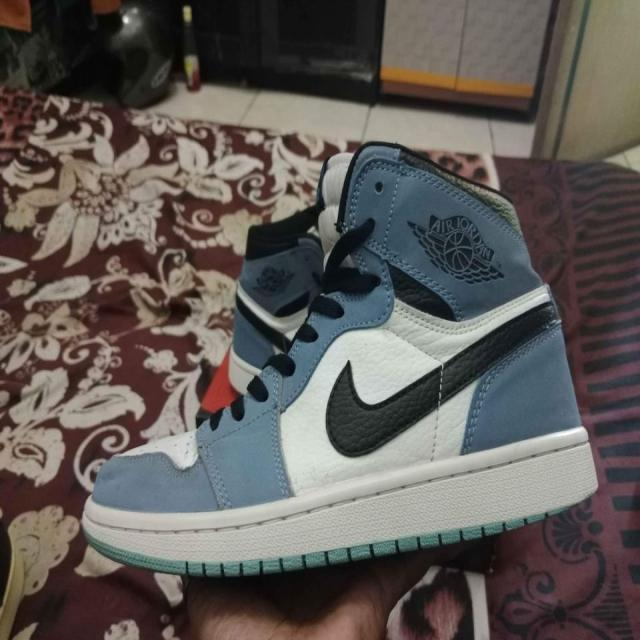nike fake jordan 1: (80, 138, 600, 580)
